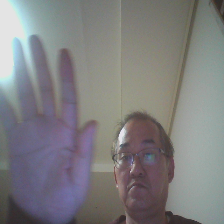hand: (2, 39, 102, 223)
